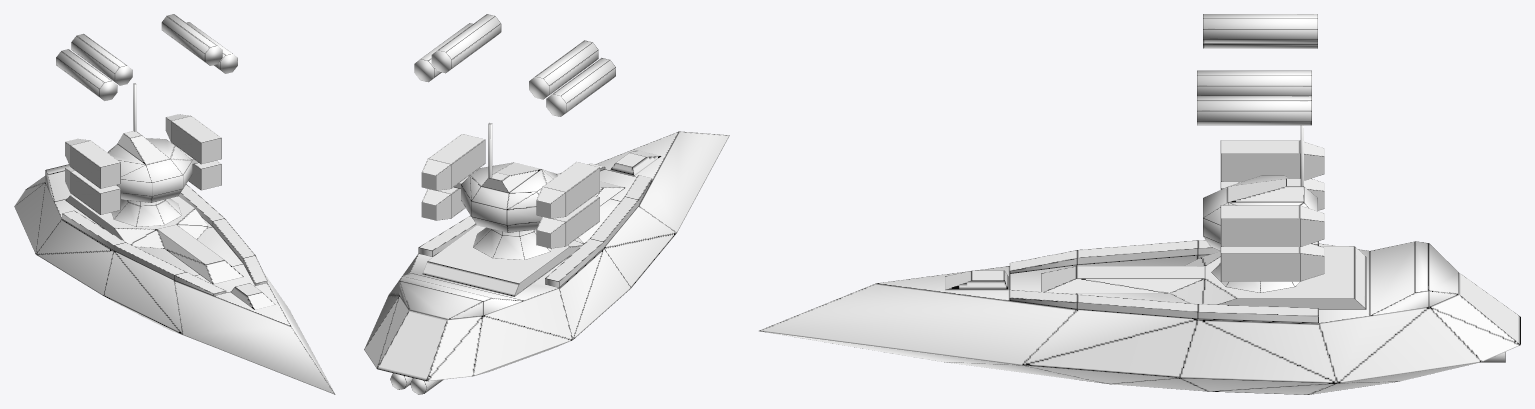
The model's file is siren.obj.
3 renders of one model, left to right at view 1: azimuth 30°, elevation 25°; view 2: azimuth 150°, elevation 25°; view 3: azimuth 270°, elevation 25°, orthographic. The views are drawn at different scales.
Visible parts, largest first — view 1: hull, turret, arml, armr, neck, hull_sep52, hull_sep49, hull_sep47, hull_sep48; view 2: hull, turret, arml, armr, hull_sep49, hull_sep47, hull_sep52, neck, hull_sep48; view 3: hull, armr, arml, turret, hull_sep48, hull_sep47, hull_sep49, neck, hull_sep52.
Boxes of the visible parts, x1,y1,x2,y2 form: hull: (14, 164, 335, 394); turret: (107, 83, 192, 202); arml: (65, 138, 120, 214); armr: (165, 114, 221, 190); neck: (111, 198, 181, 226); hull_sep52: (56, 49, 117, 100); hull_sep49: (161, 14, 222, 65); hull_sep47: (71, 34, 132, 85); hull_sep48: (186, 22, 237, 73); hull: (364, 131, 729, 394); turret: (461, 123, 557, 232); arml: (536, 162, 599, 248); armr: (421, 134, 485, 220); hull_sep49: (431, 14, 501, 73); hull_sep47: (529, 40, 598, 99); hull_sep52: (546, 58, 615, 116); neck: (473, 227, 551, 259); hull_sep48: (414, 23, 472, 82); hull: (759, 240, 1520, 394); armr: (1220, 205, 1324, 281); arml: (1220, 140, 1324, 210); turret: (1203, 125, 1317, 250); hull_sep48: (1197, 96, 1311, 125); hull_sep47: (1203, 14, 1317, 43); hull_sep49: (1197, 70, 1311, 95); neck: (1211, 263, 1299, 292); hull_sep52: (1203, 43, 1317, 48).
Bounding box in the file's own units: 24 × 33.91 × 73.93.
Materials: 1 (1 with a texture image).
